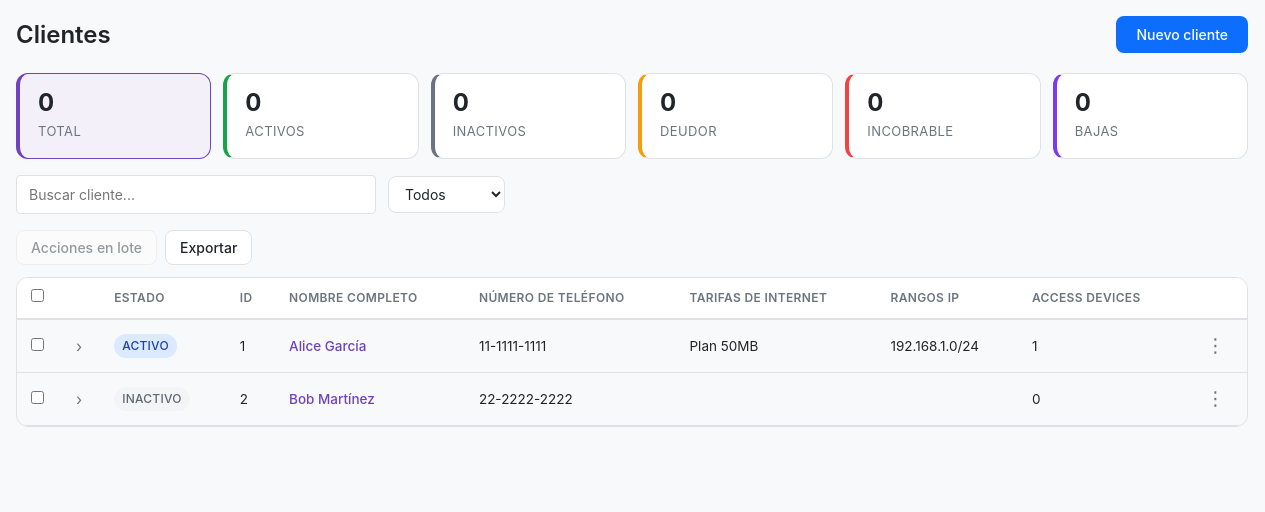
Scenario: CustomersListPage › clicking expand button again collapses the expanded content
Click the button named "Expandir fila": (79, 346) top-left (72, 332), bottom-right (86, 360)
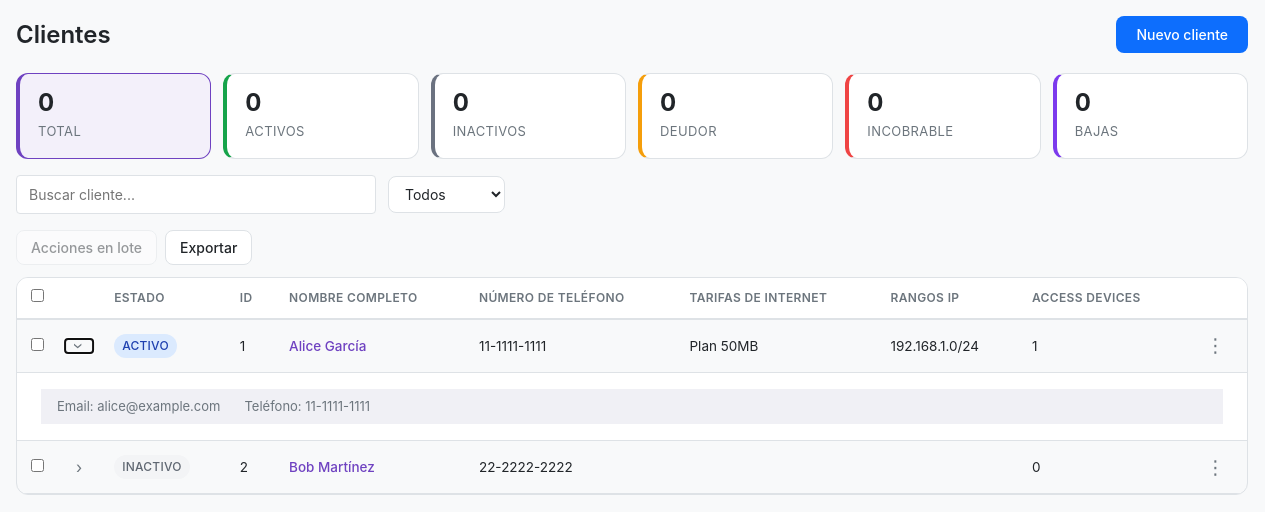
Note: Now expanded — button label changes to "Colapsar fila"
Click the button named "Colapsar fila": (79, 346) top-left (65, 339), bottom-right (93, 353)
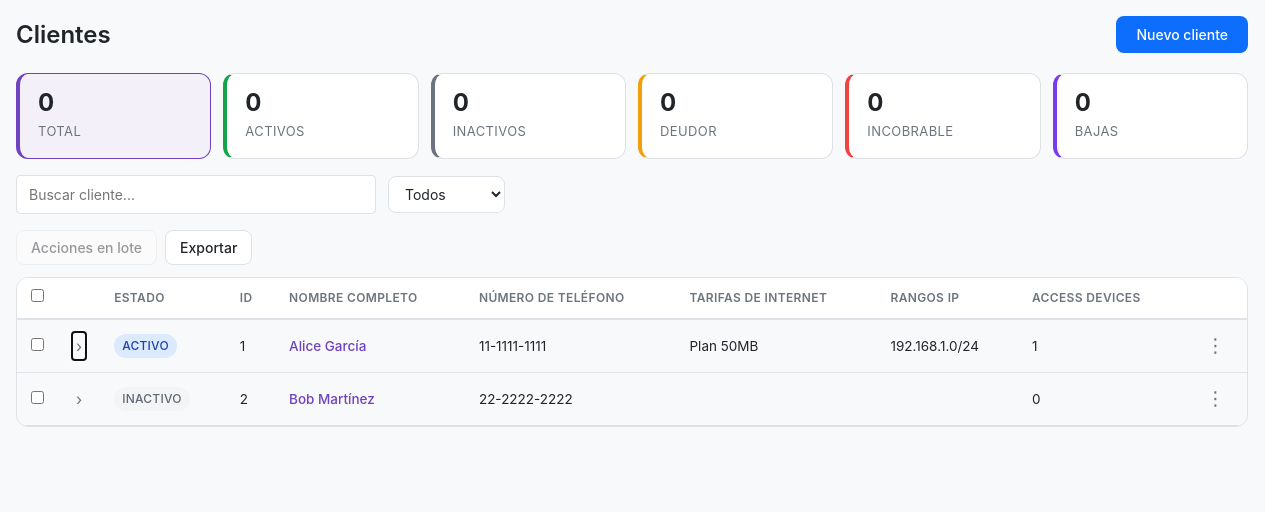
Expected: the text "Email: alice@example.com" is gone
